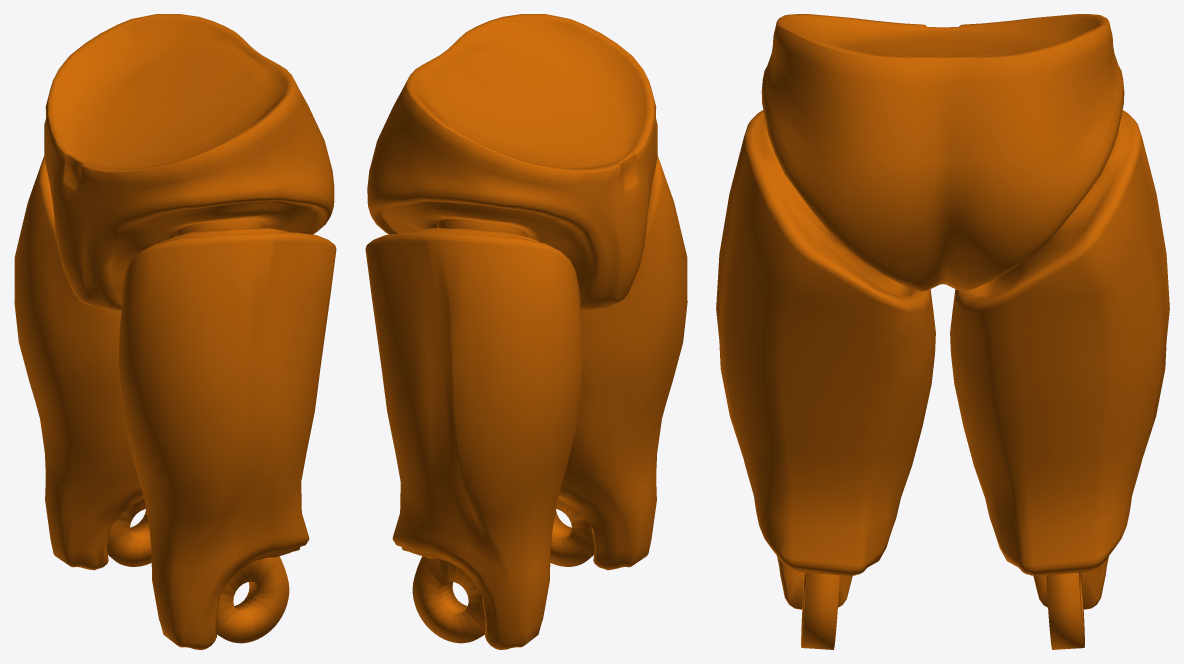
Rendered from hipModel.glb.
3 renders of one model, left to right at view 1: azimuth 30°, elevation 25°; view 2: azimuth 150°, elevation 25°; view 3: azimuth 270°, elevation 25°, orthographic. The views are drawn at different scales.
Visible parts, largest first — view 1: leftThigh, hip, rightThigh; view 2: rightThigh, hip, leftThigh; view 3: hip, leftThigh, rightThigh.
Part boxes in pixels (x1,y1,x2,y2): leftThigh: (118,219,336,649); hip: (44,14,334,311); rightThigh: (14,156,151,570); rightThigh: (365,219,583,649); hip: (367,14,657,311); leftThigh: (550,156,687,570); hip: (761,14,1124,291); leftThigh: (716,110,935,649); rightThigh: (950,110,1169,649).
Size of the model in its own units: 0.2829 by 0.6218 by 0.406.
